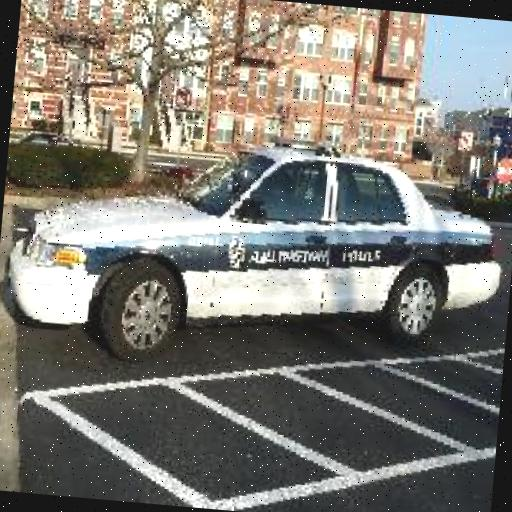Ambulance: (10, 116, 506, 388)
